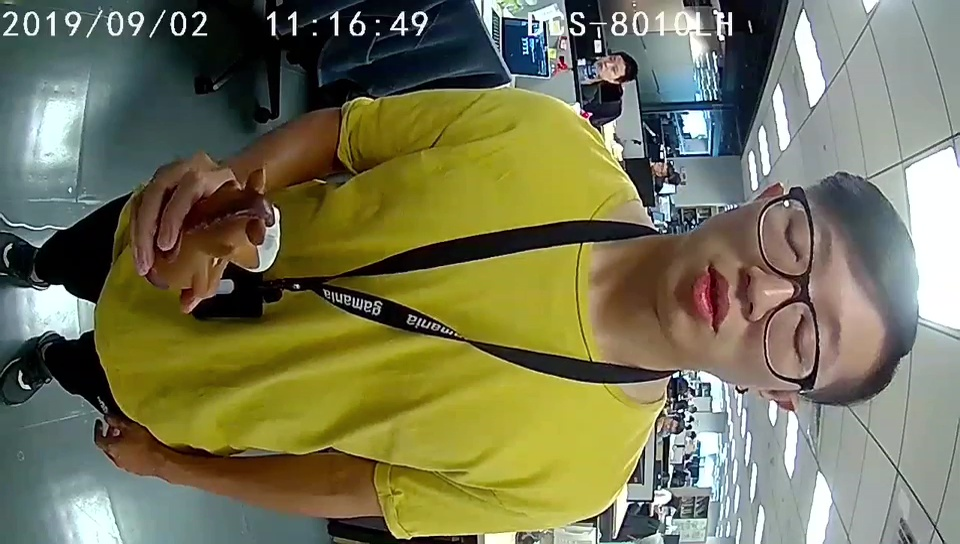horse: (191, 166, 279, 301)
